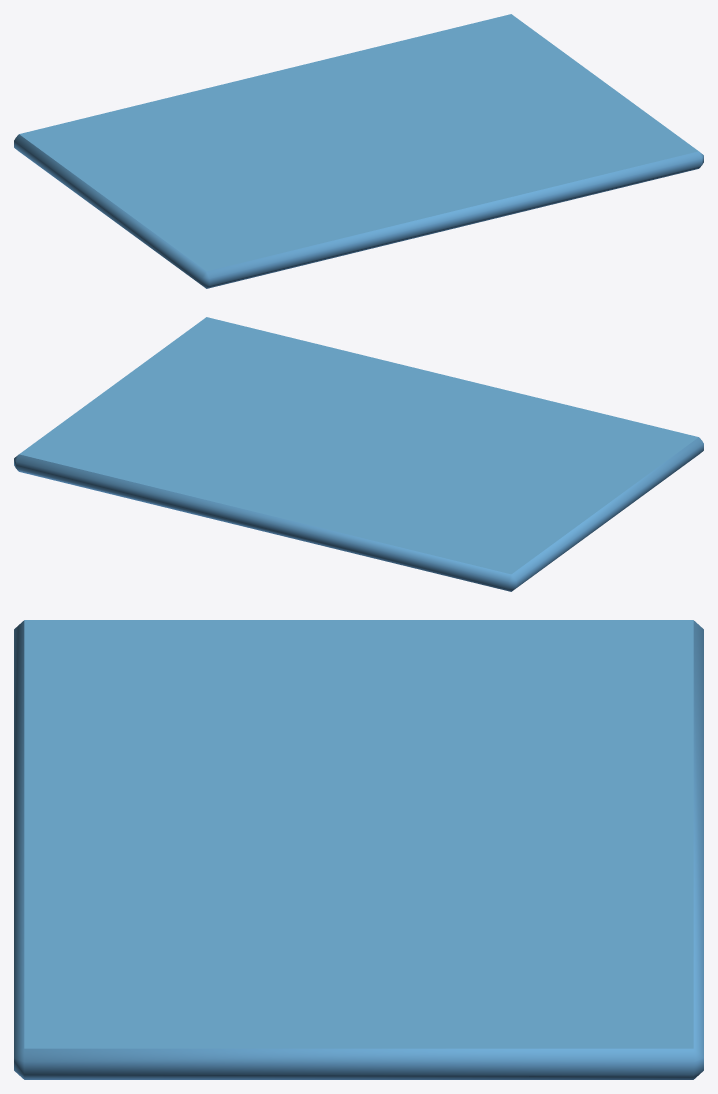
File: rug_rectangle_b.glb
3 renders of one model, top to bottom at view 1: azimuth 30°, elevation 25°; view 2: azimuth 150°, elevation 25°; view 3: azimuth 270°, elevation 25°, orthographic. The views are drawn at different scales.
Parts seen in each view (by area): view 1: rug_rectangle_B; view 2: rug_rectangle_B; view 3: rug_rectangle_B.
Part boxes in pixels (x1=…): rug_rectangle_B: x1=14, y1=14, x2=703, y2=288; rug_rectangle_B: x1=14, y1=317, x2=703, y2=591; rug_rectangle_B: x1=14, y1=620, x2=703, y2=1079.
Size of the model in its own units: 2.1 by 0.07 by 1.4.
1 material, 1 textured.
